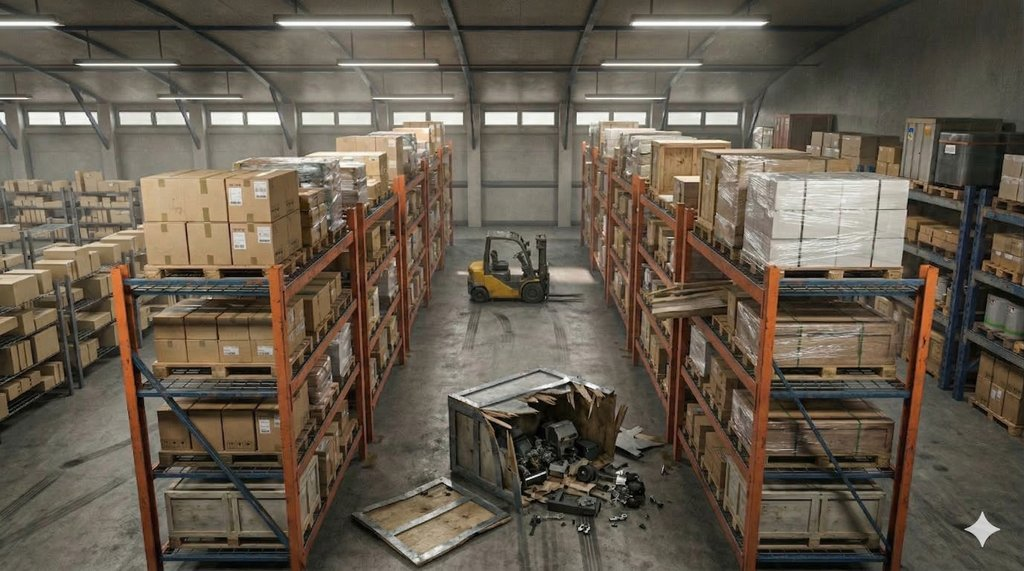forklift: (457, 210, 583, 326)
obstacle: (350, 354, 690, 567)
pallet: (130, 258, 322, 299), (145, 442, 323, 485), (148, 354, 318, 397), (751, 443, 910, 481), (754, 256, 902, 296), (738, 524, 896, 560), (164, 522, 308, 559), (768, 356, 910, 389), (968, 320, 1024, 351), (970, 258, 1024, 289), (925, 186, 967, 206)
